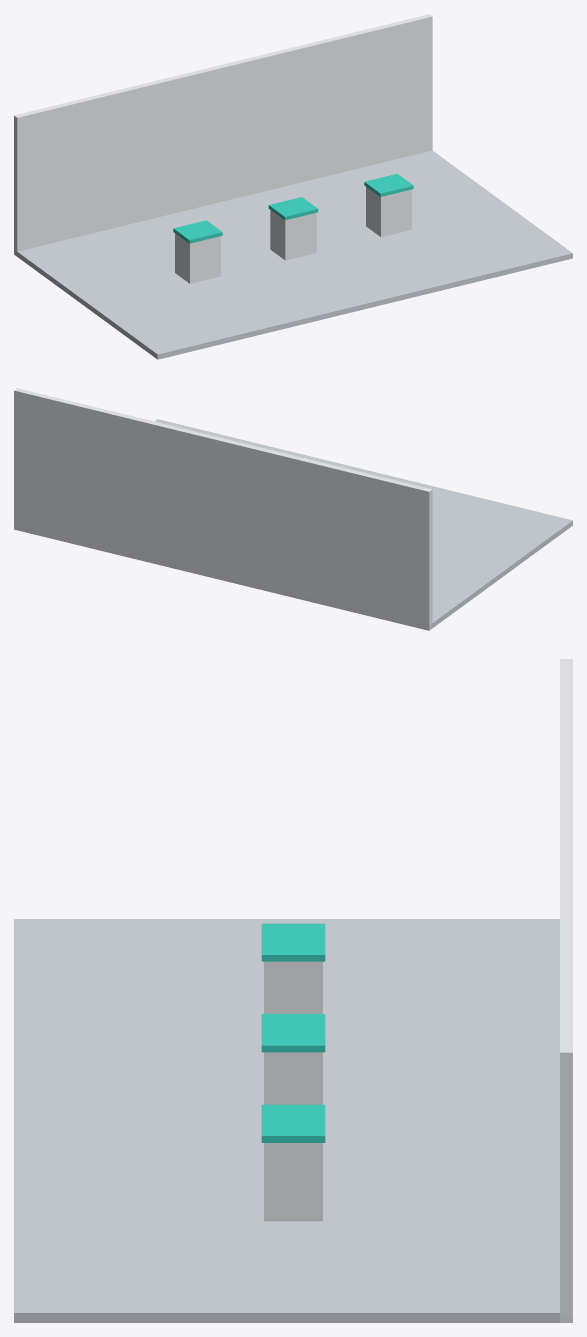
The picture shows the model from 3 angles, top to bottom: view 1: azimuth 30°, elevation 25°; view 2: azimuth 150°, elevation 25°; view 3: azimuth 270°, elevation 25°; orthographic projection. The views are drawn at different scales.
Visible parts, largest first — view 1: Exhibition Booth Concept; view 2: Exhibition Booth Concept; view 3: Exhibition Booth Concept.
Boxes of the visible parts, x1=… form: Exhibition Booth Concept: x1=14, y1=14, x2=572, y2=359; Exhibition Booth Concept: x1=14, y1=388, x2=572, y2=630; Exhibition Booth Concept: x1=14, y1=659, x2=572, y2=1322.
Size of the model in its own units: 10 by 3.2 by 6.
